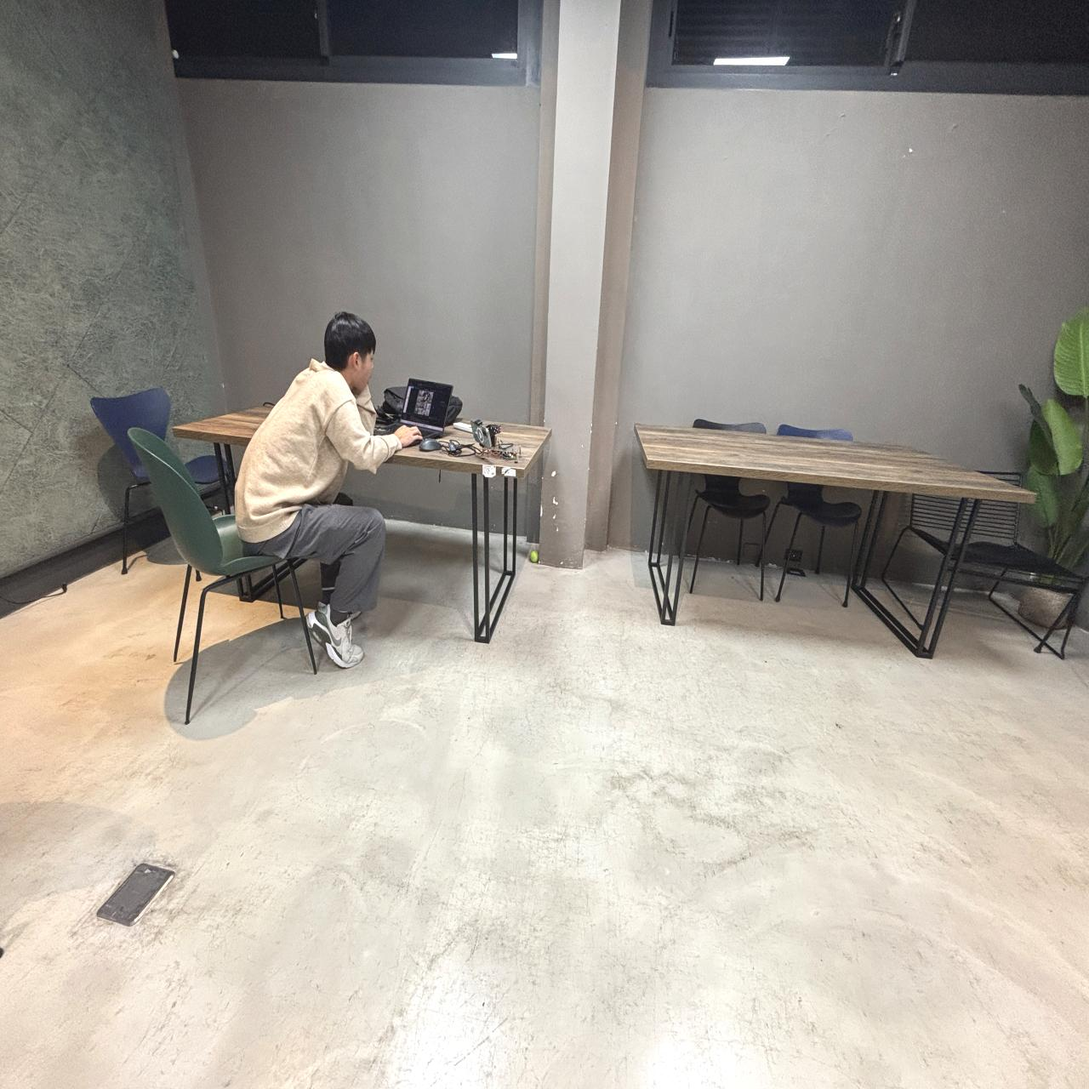tennisball: (529, 550, 539, 563)
